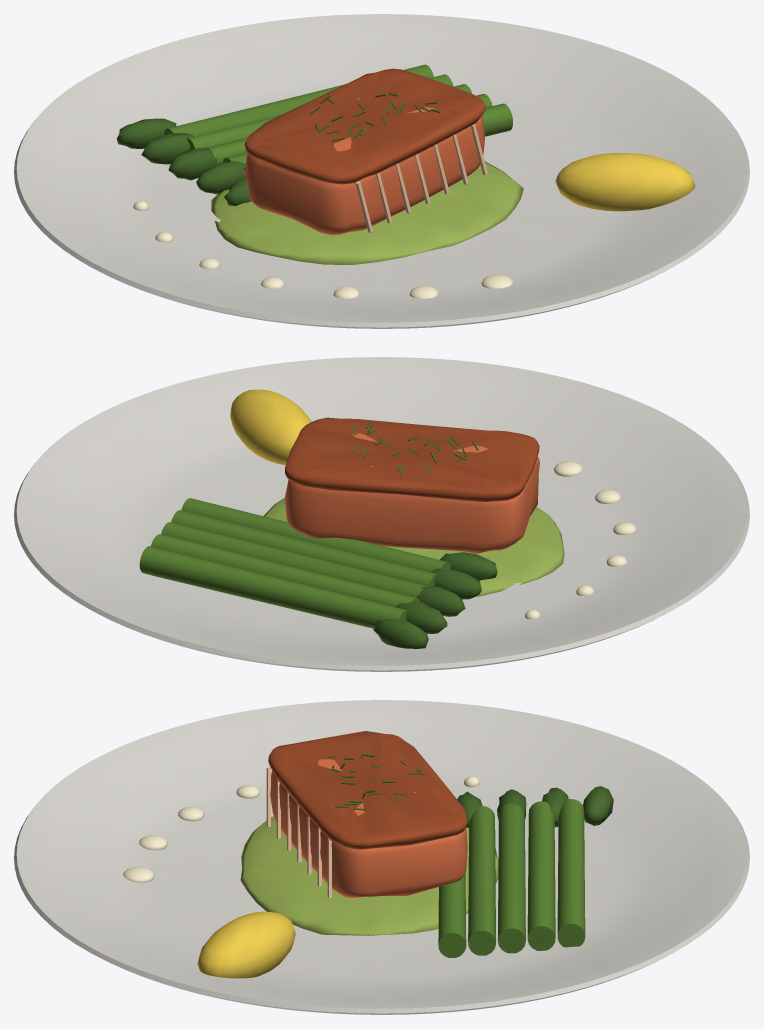
Rendered from salmon-esparragos.glb.
The picture shows the model from 3 angles, top to bottom: view 1: azimuth 30°, elevation 25°; view 2: azimuth 150°, elevation 25°; view 3: azimuth 270°, elevation 25°; orthographic projection.
Visible parts, largest first — view 1: salmon-esparragos; view 2: salmon-esparragos; view 3: salmon-esparragos.
Boxes of the visible parts, x1,y1,x2,y2 form: salmon-esparragos: [14, 14, 749, 328]; salmon-esparragos: [14, 357, 749, 671]; salmon-esparragos: [14, 700, 749, 1014].
Bounding box in the file's own units: 0.272 × 0.0515 × 0.272.
